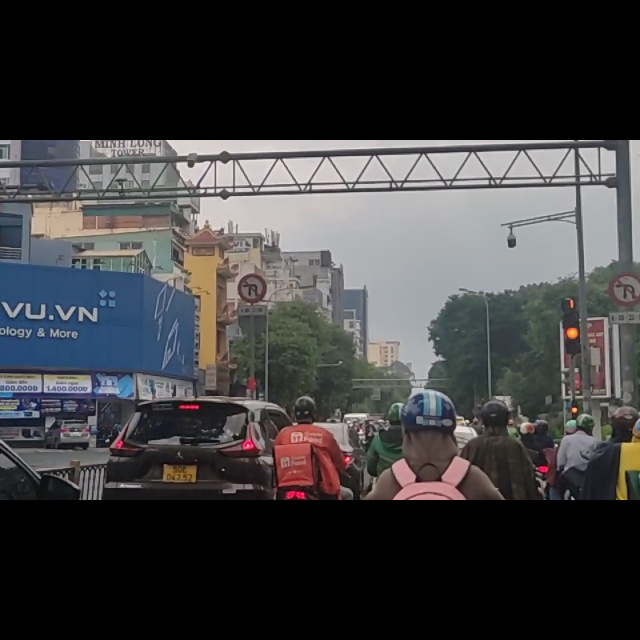bien_cam: (237, 229, 268, 294), (611, 235, 640, 293)
